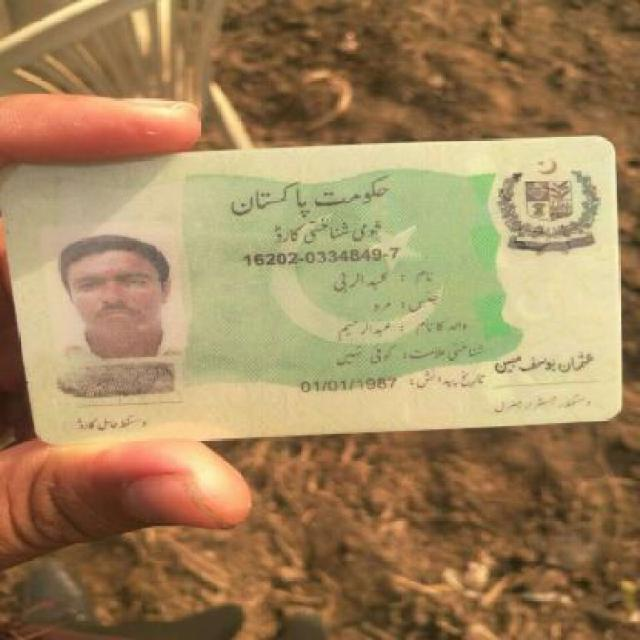Front: (8, 132, 624, 448)
